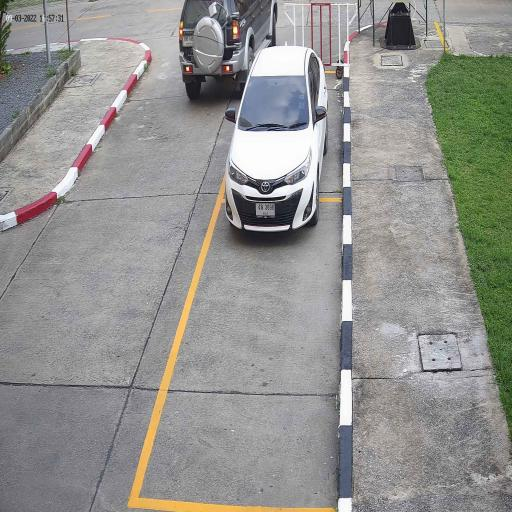car: (224, 44, 330, 234), (178, 0, 280, 100)
